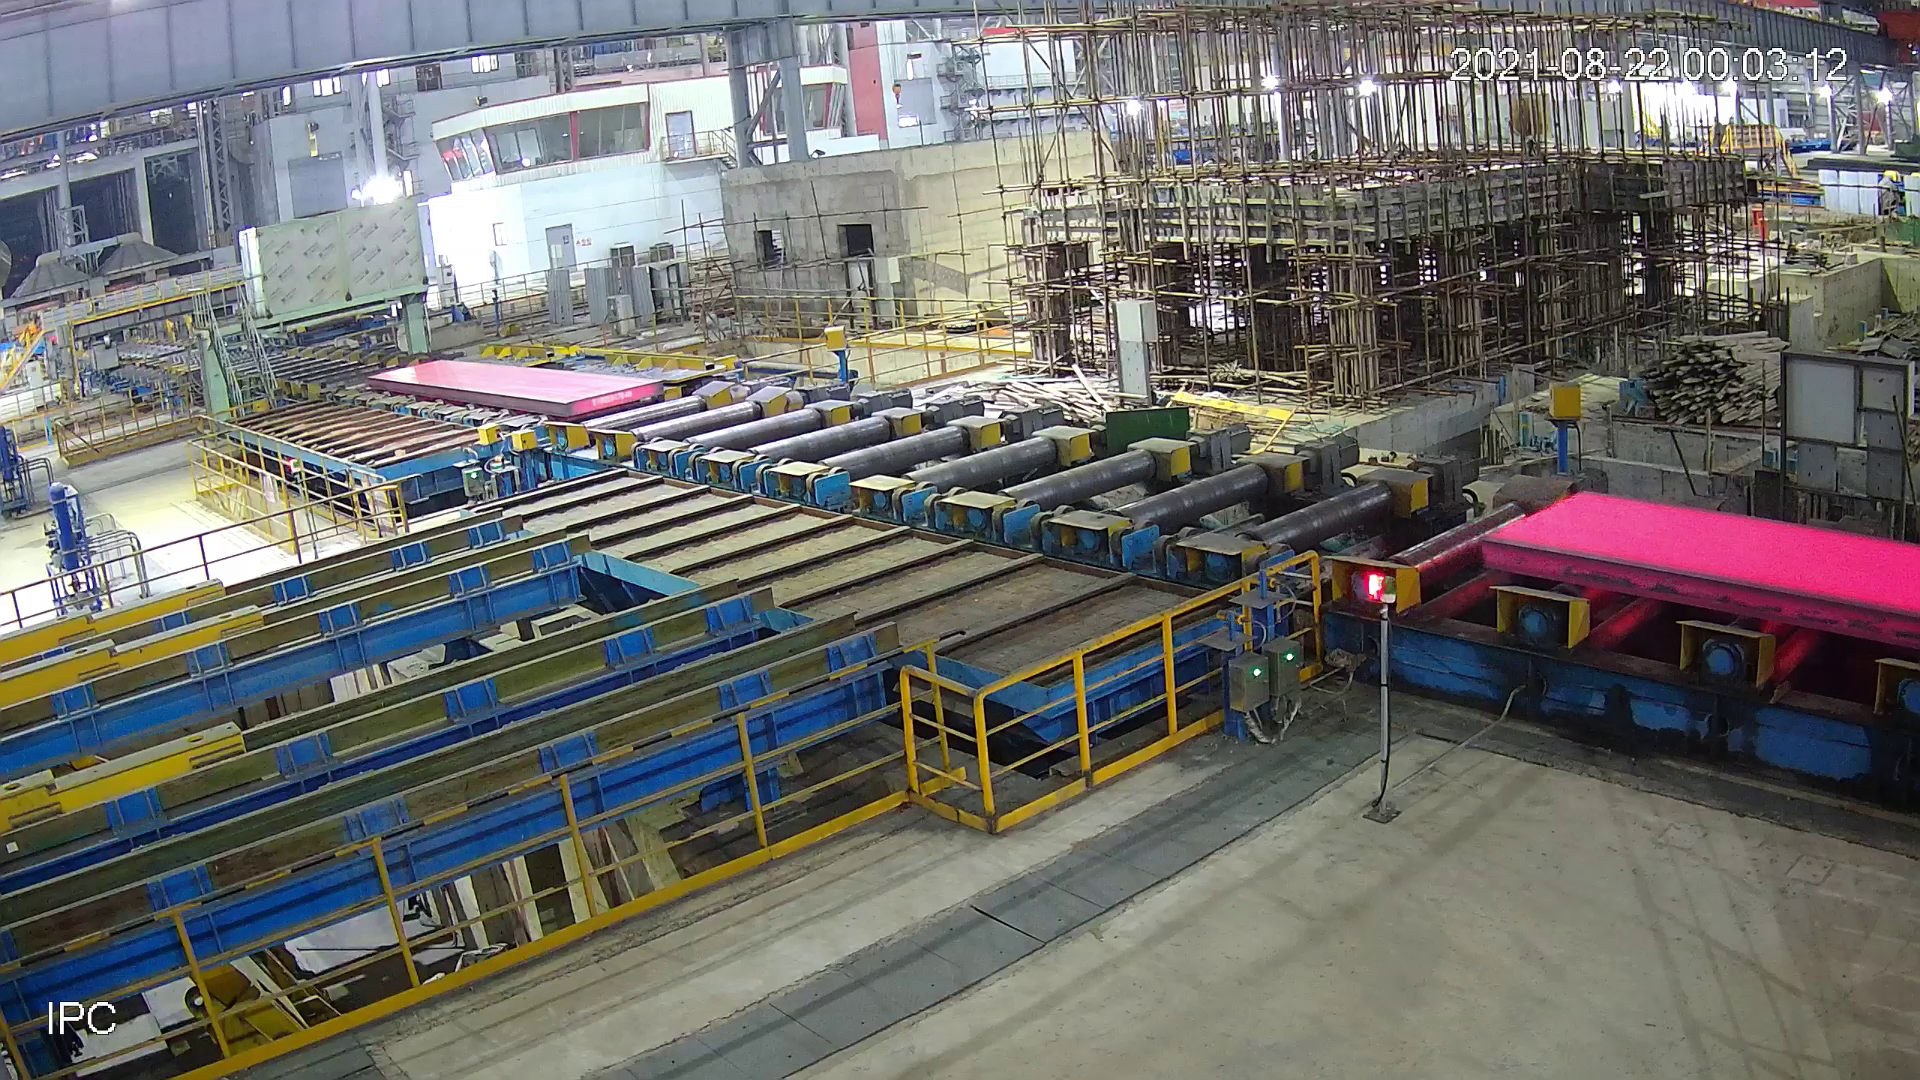slab: (1480, 483, 1920, 647), (364, 353, 670, 422)
